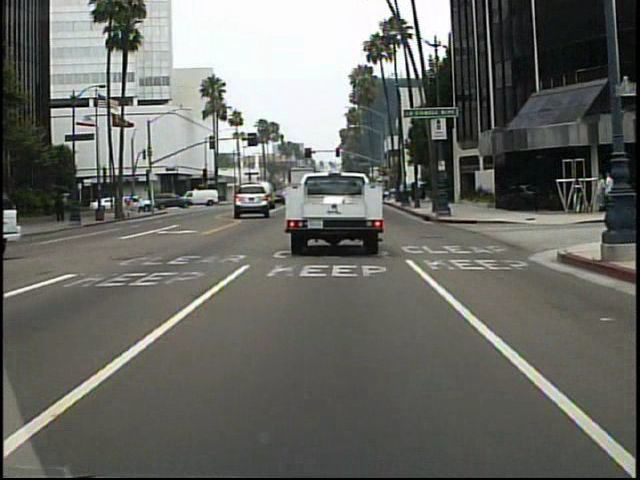person: (599, 167, 614, 217), (593, 171, 606, 213), (138, 194, 148, 214)
